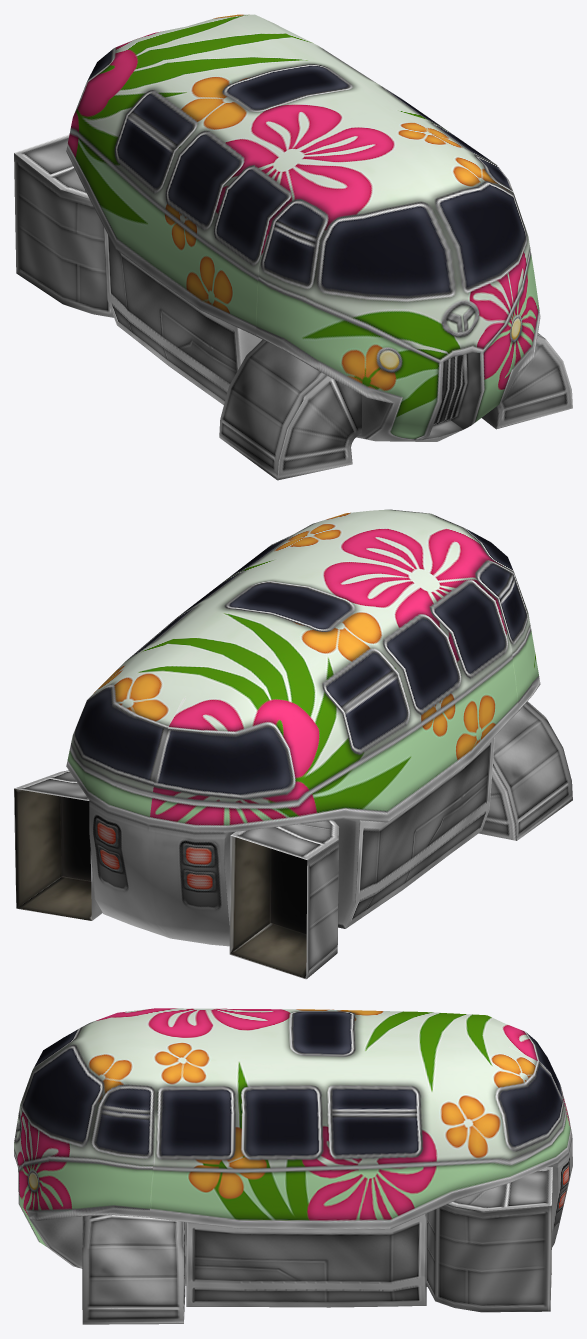
Rendered from JpHippie_low.FBX.
The picture shows the model from 3 angles, top to bottom: view 1: azimuth 30°, elevation 25°; view 2: azimuth 150°, elevation 25°; view 3: azimuth 270°, elevation 25°; orthographic projection. The views are drawn at different scales.
Parts seen in each view (by area): view 1: JpHippie; view 2: JpHippie; view 3: JpHippie.
Boxes of the visible parts, left/top/right/bottom form: JpHippie: left=14, top=14, right=572, bottom=480; JpHippie: left=14, top=509, right=572, bottom=979; JpHippie: left=14, top=1008, right=572, bottom=1324.
Size of the model in its own units: 1.6 by 1.37 by 2.94.
